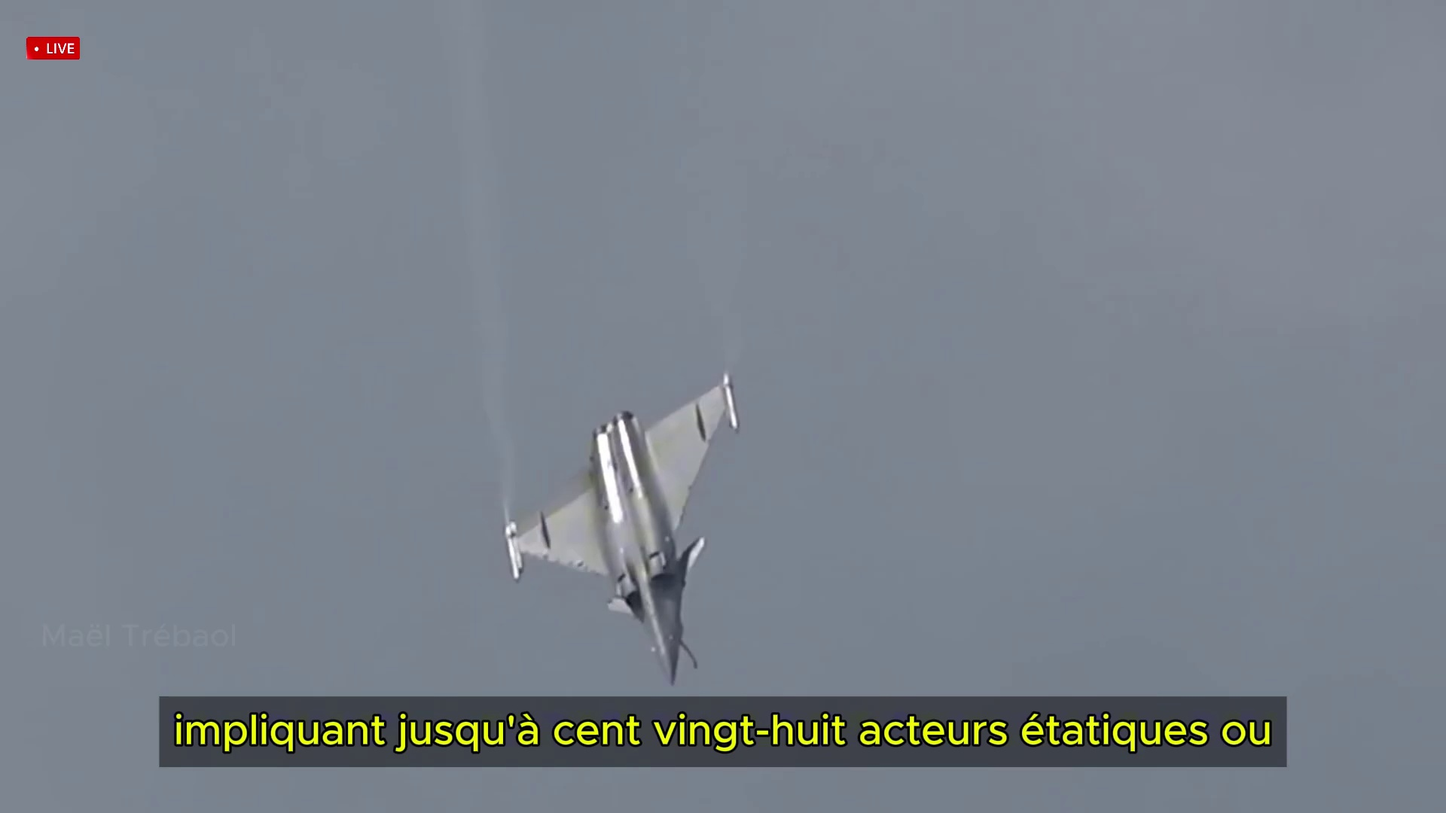Rafale: (504, 374, 742, 690)
